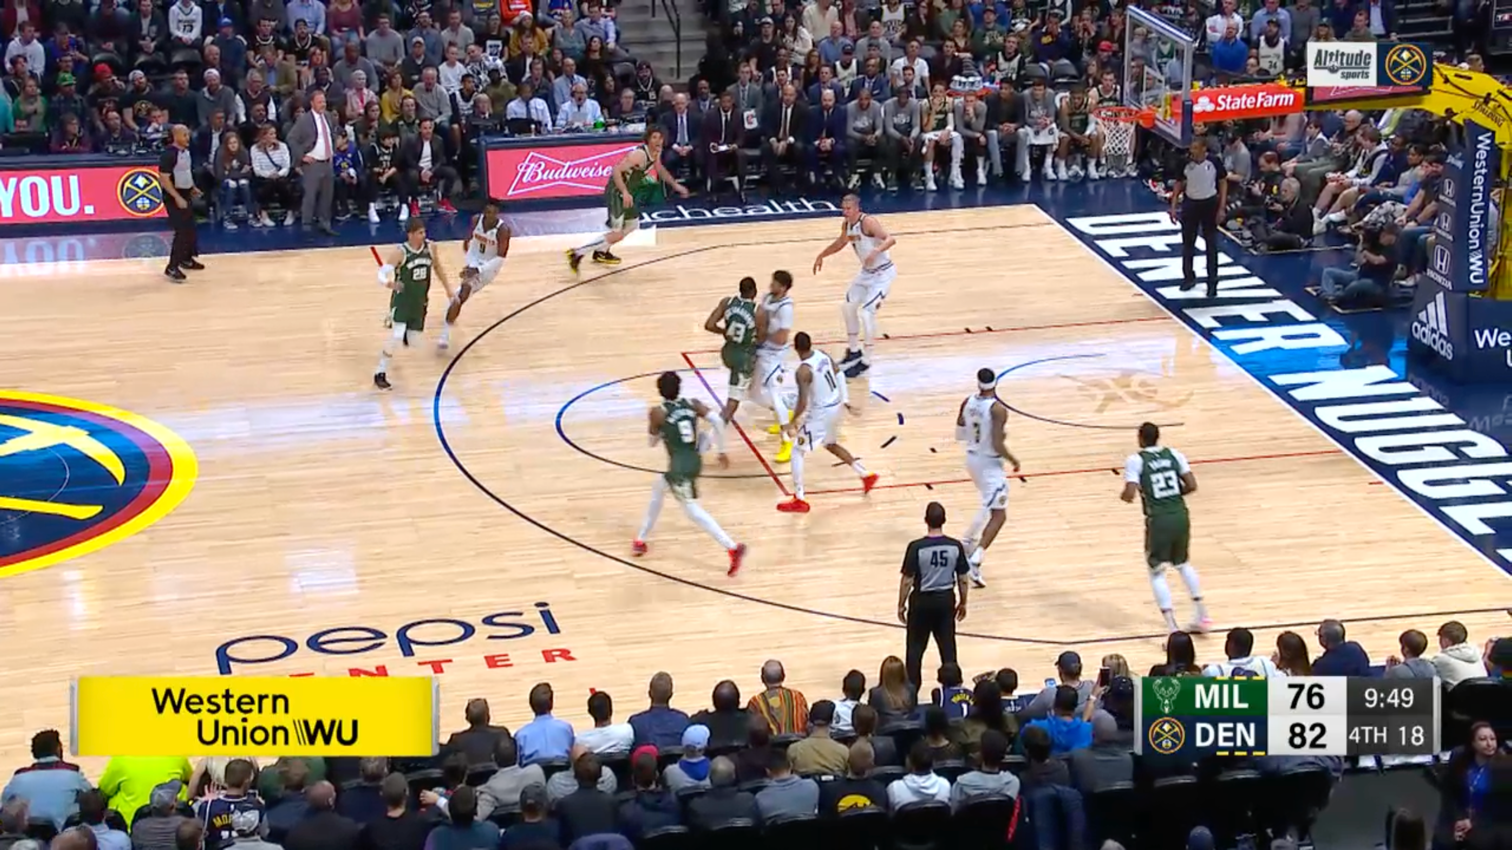Foul: (714, 258, 790, 458)
